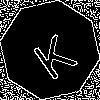K: (25, 25, 79, 82)
